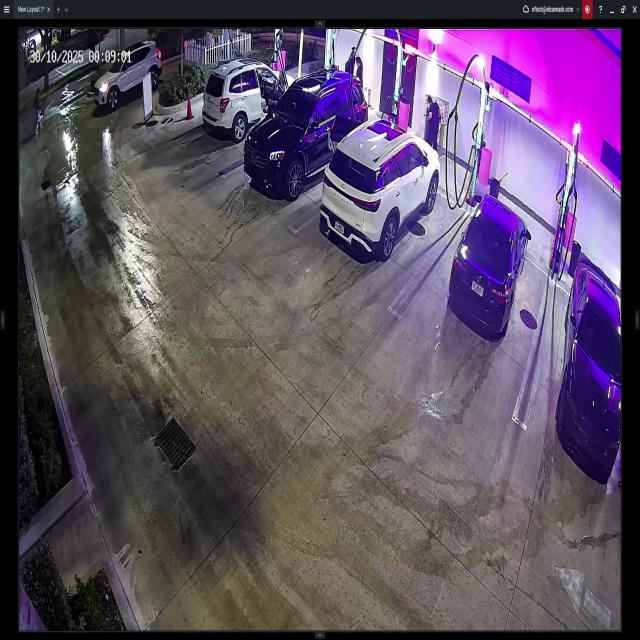Car: (321, 119, 439, 262), (248, 65, 366, 198), (556, 252, 622, 478), (447, 191, 530, 341), (206, 57, 294, 140), (88, 44, 163, 102)
